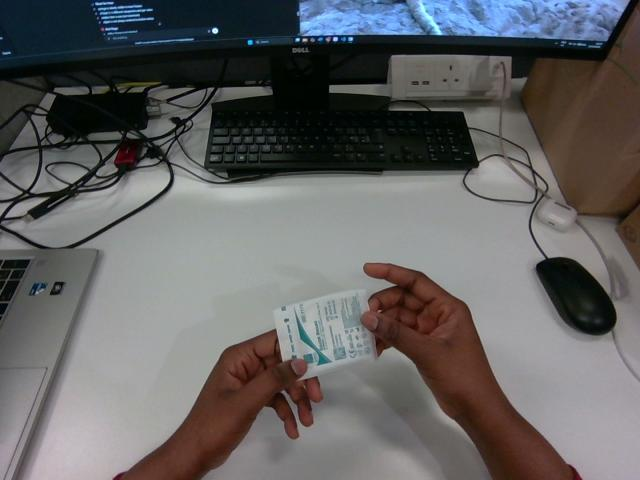gauze: (274, 290, 376, 378)
